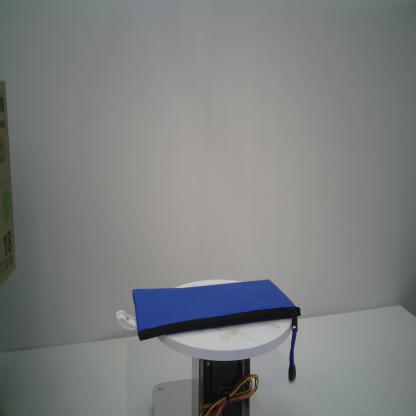Stationery: (132, 278, 301, 382)
